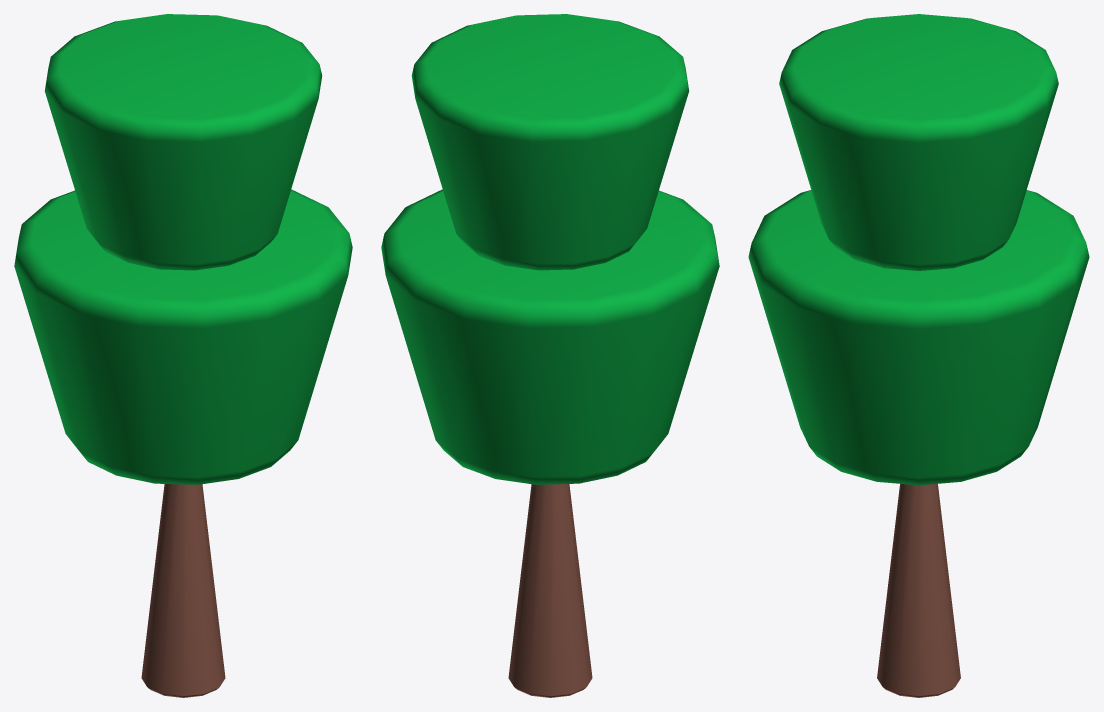
The model's file is Farm_5_Tree_1.glb.
3 views of the same model, side by side, from view 1: azimuth 30°, elevation 25°; view 2: azimuth 150°, elevation 25°; view 3: azimuth 270°, elevation 25° (orthographic).
Visible parts, largest first — view 1: Farm_5_Tree_1; view 2: Farm_5_Tree_1; view 3: Farm_5_Tree_1.
Part boxes in pixels (x1=…): Farm_5_Tree_1: x1=14, y1=14, x2=352, y2=697; Farm_5_Tree_1: x1=381, y1=14, x2=719, y2=697; Farm_5_Tree_1: x1=748, y1=14, x2=1089, y2=697.
Size of the model in its own units: 1.78 by 3.55 by 1.78.
1 material, 1 textured.
